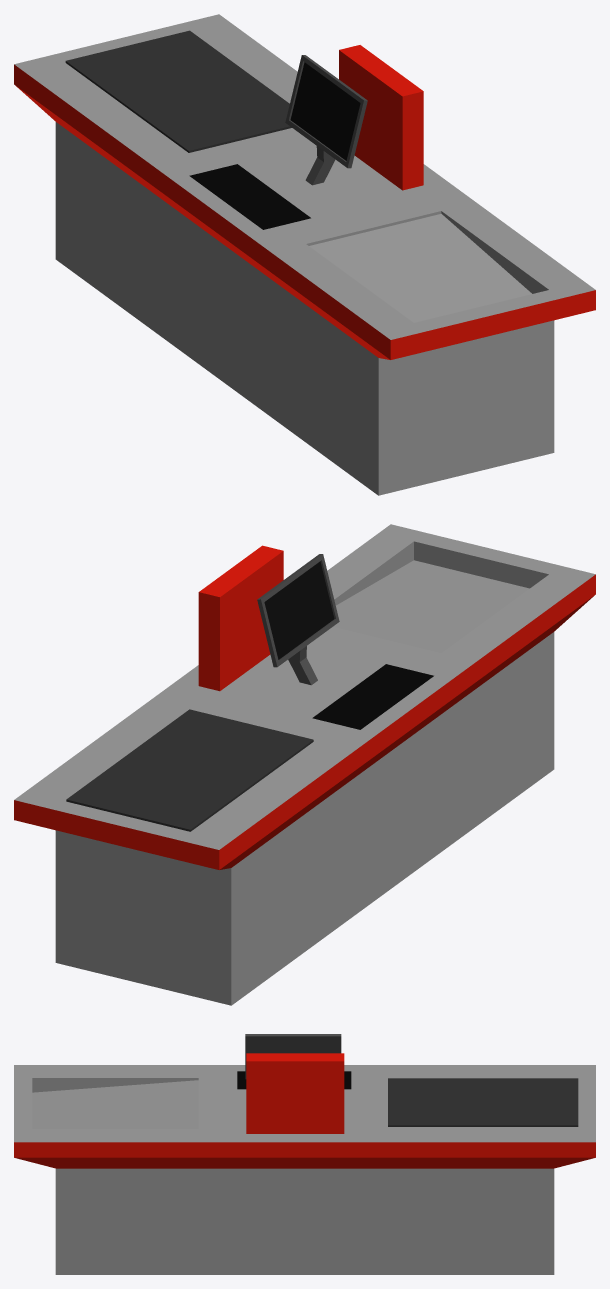
The model's file is Касса1.fbx.
3 renders of one model, top to bottom at view 1: azimuth 30°, elevation 25°; view 2: azimuth 150°, elevation 25°; view 3: azimuth 270°, elevation 25°, orthographic. The views are drawn at different scales.
Visible parts, largest first — view 1: Cube.019; view 2: Cube.019; view 3: Cube.019.
Boxes of the visible parts, box(x1,y1,x2,y2) form: Cube.019: box(14, 14, 595, 495); Cube.019: box(14, 524, 595, 1005); Cube.019: box(14, 1034, 595, 1274).
Size of the model in its own units: 233 by 303 by 743.
